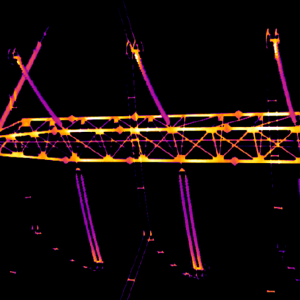insulator: (16, 55, 61, 126), (130, 48, 170, 126), (270, 37, 297, 125), (80, 171, 103, 261), (75, 173, 97, 261), (178, 172, 198, 268), (183, 173, 202, 268)
